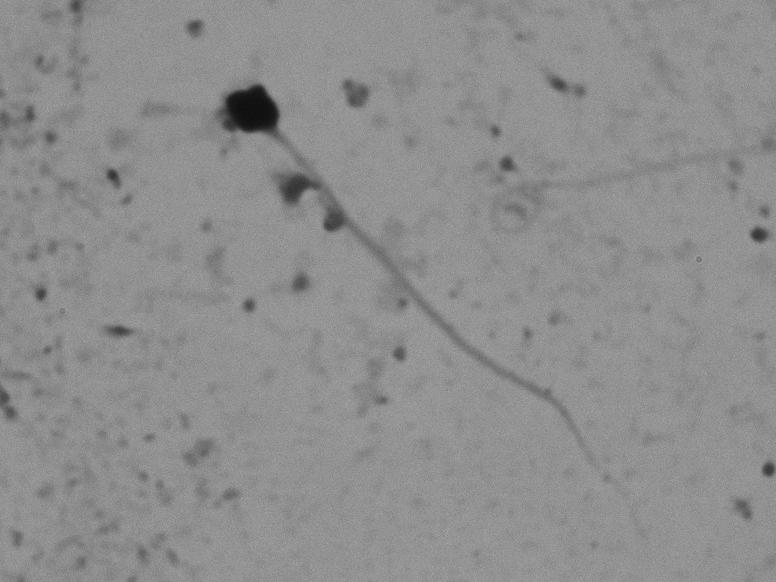Abnormal: (206, 61, 679, 554)
